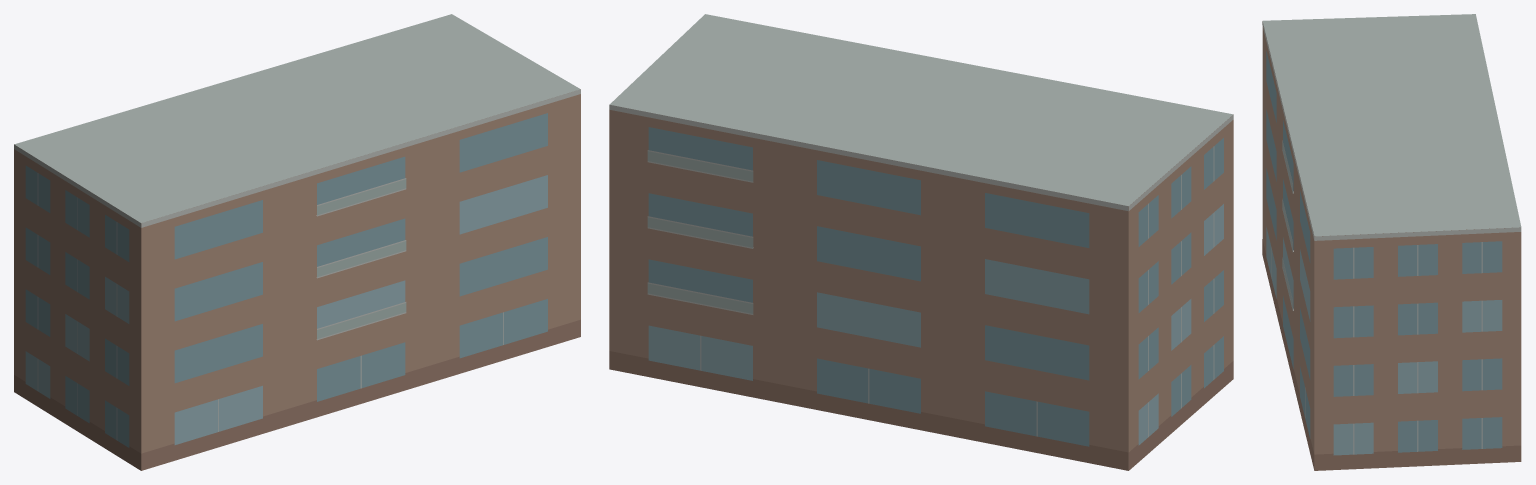
File: survey-upis-32633388.glb
3 renders of one model, left to right at view 1: azimuth 30°, elevation 25°; view 2: azimuth 150°, elevation 25°; view 3: azimuth 270°, elevation 25°, orthographic. The views are drawn at different scales.
Visible parts, largest first — view 1: survey-upis-32633388.tmp; view 2: survey-upis-32633388.tmp; view 3: survey-upis-32633388.tmp.
Part boxes in pixels (x1,y1,x2,y2): survey-upis-32633388.tmp: (14, 14, 580, 470); survey-upis-32633388.tmp: (609, 14, 1233, 470); survey-upis-32633388.tmp: (1262, 14, 1521, 470).
Size of the model in its own units: 26.06 by 12.8 by 12.82.
